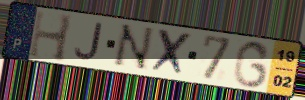7: (201, 33, 233, 82)
G: (231, 39, 273, 89)
H: (26, 8, 75, 64)
J: (72, 22, 104, 62)
N: (110, 23, 157, 73)
X: (148, 27, 195, 79)
